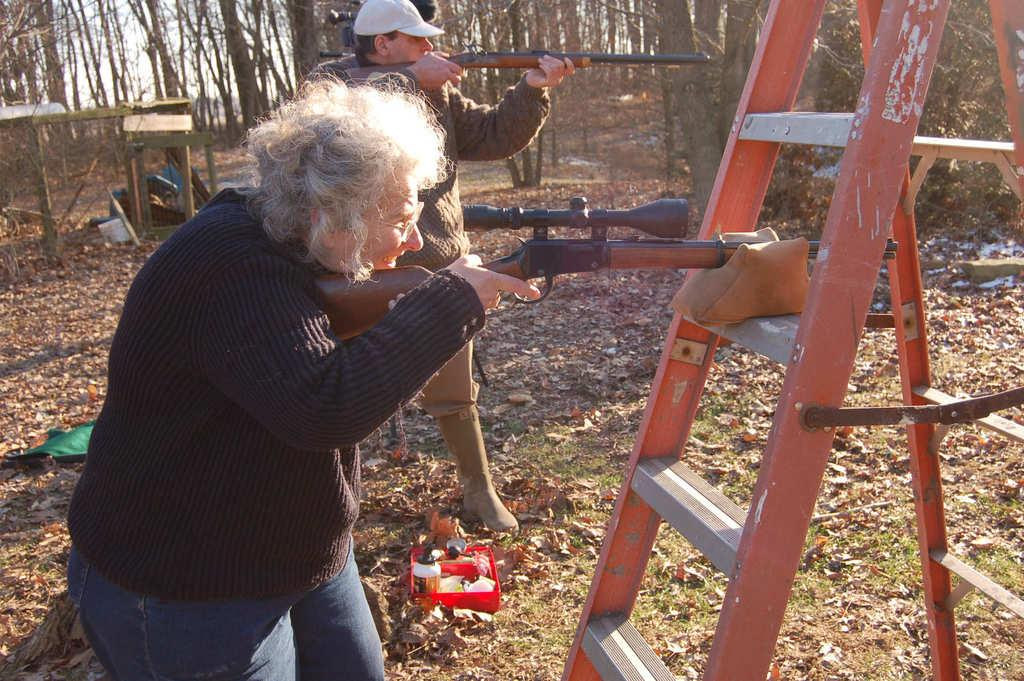Rifle: (311, 199, 902, 336), (340, 37, 716, 74)
